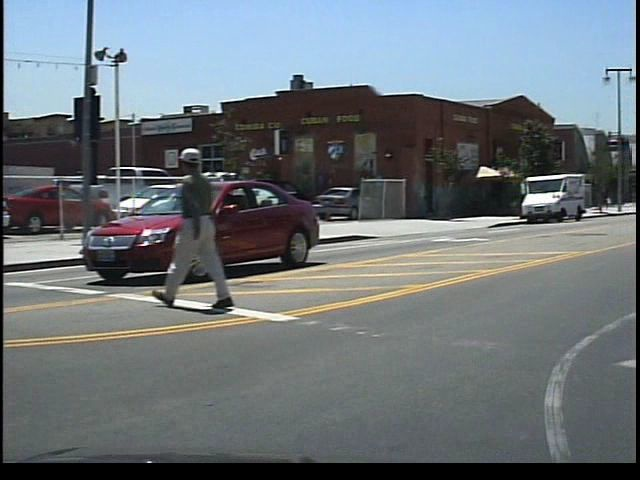person: (167, 143, 250, 314)
